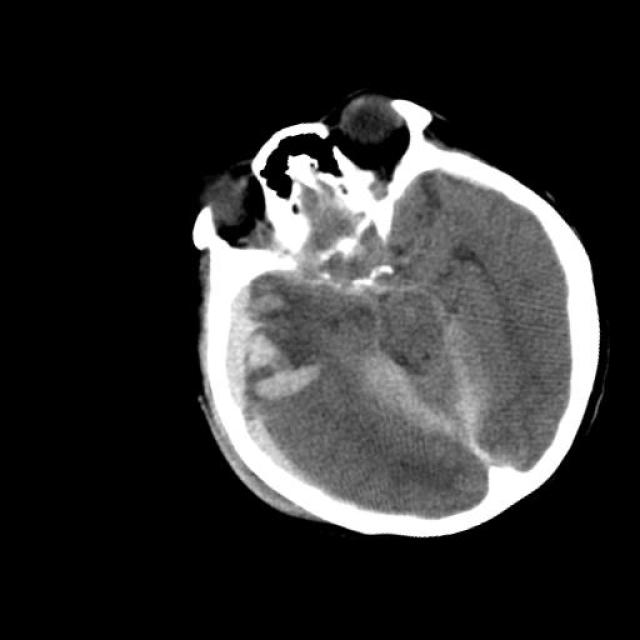Intraparenchymal: (336, 311, 523, 458), (232, 300, 360, 416)
Subdural: (122, 264, 308, 515)
